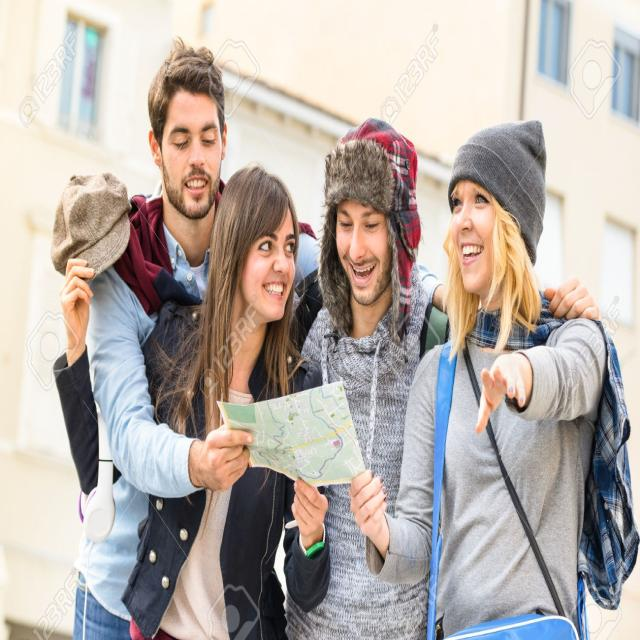body: (77, 35, 460, 640), (348, 116, 640, 639), (50, 162, 326, 639), (292, 133, 454, 640)
